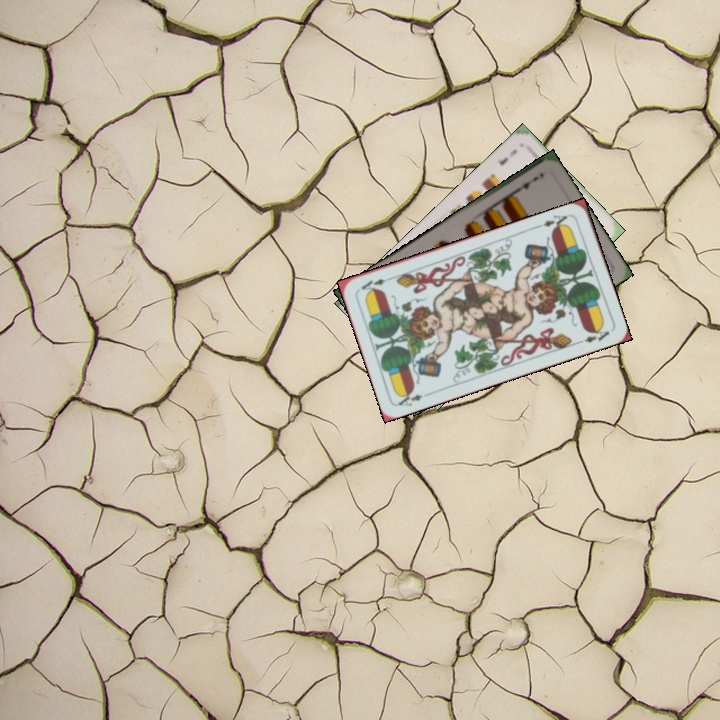E7: (511, 172, 541, 196), (494, 145, 520, 168)
EA: (539, 210, 573, 233), (394, 387, 425, 409)
